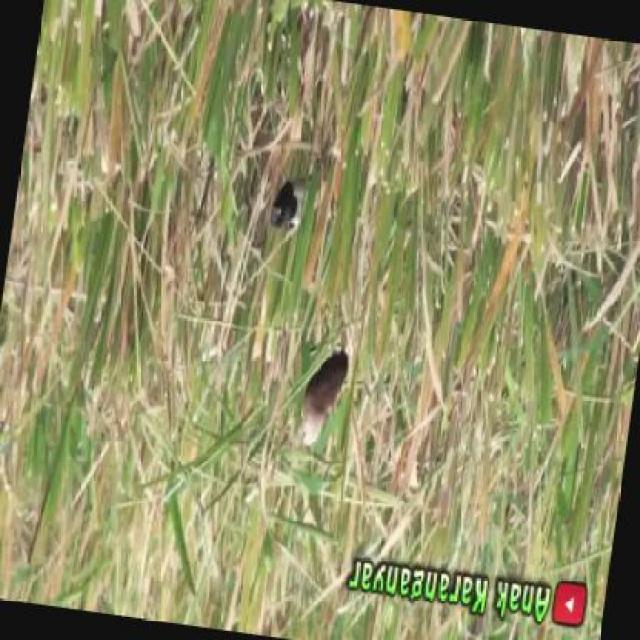Bird: (291, 334, 350, 452), (267, 174, 308, 246)
